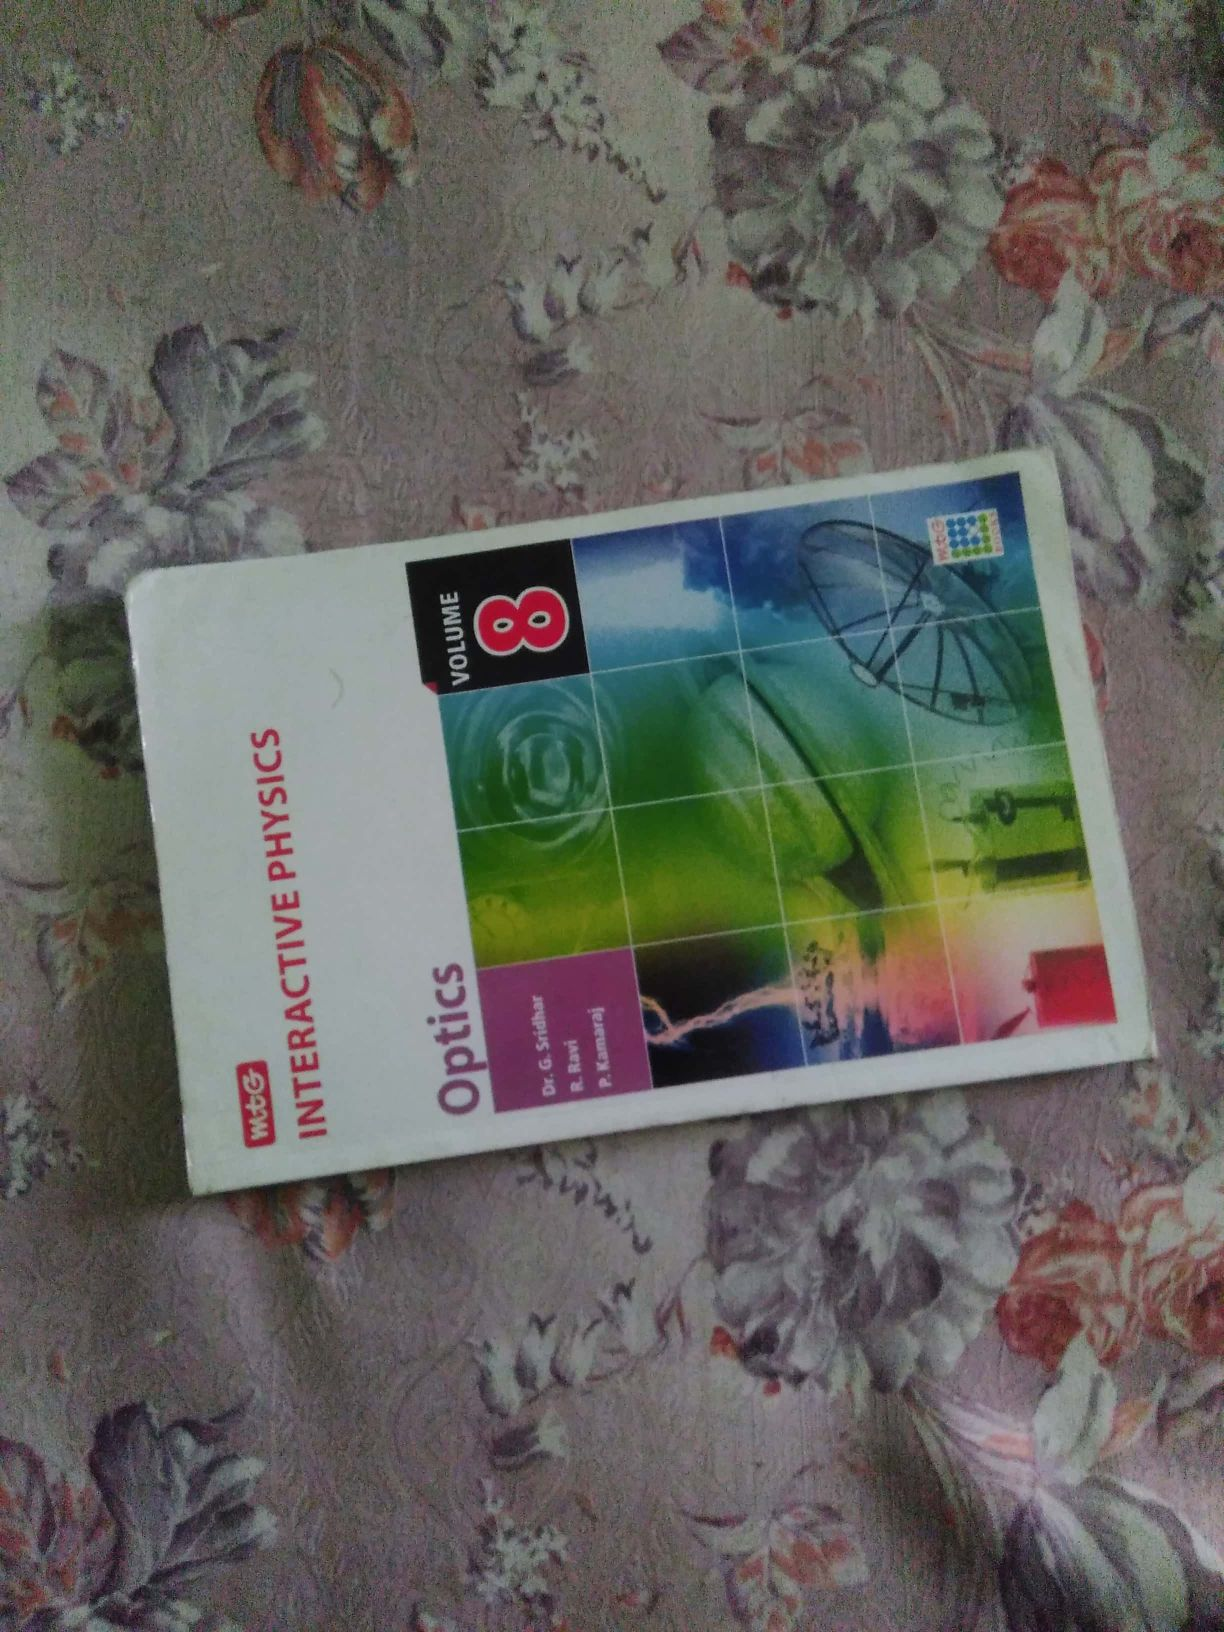optics: (156, 466, 1170, 1173)
